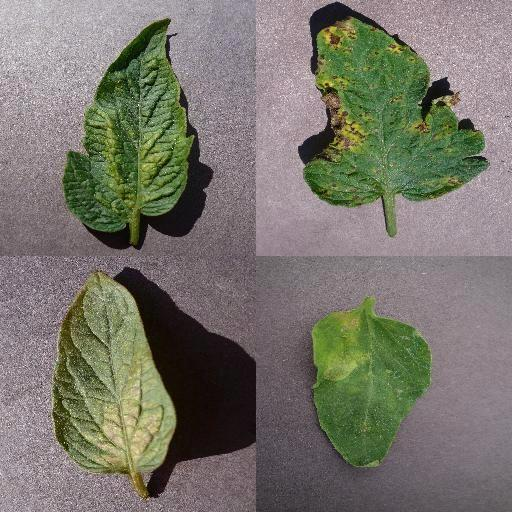Late Blight: (307, 307, 435, 471)
Septoria: (304, 16, 492, 208)
Spider Mites: (63, 17, 193, 233), (50, 269, 178, 475)
